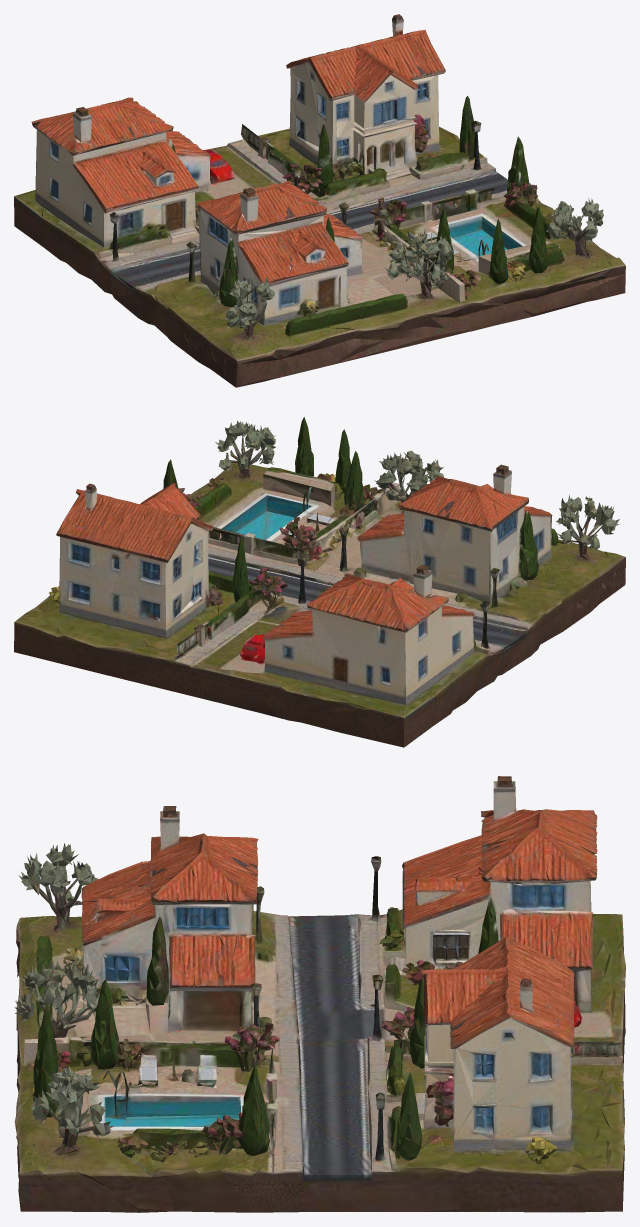
File: residenziali.glb
3 renders of one model, top to bottom at view 1: azimuth 30°, elevation 25°; view 2: azimuth 150°, elevation 25°; view 3: azimuth 270°, elevation 25°, orthographic. The views are drawn at different scales.
Parts seen in each view (by area): view 1: output_unwrapped; view 2: output_unwrapped; view 3: output_unwrapped.
Part boxes in pixels (left/top/right/bottom): output_unwrapped: left=14, top=14, right=625, bottom=387; output_unwrapped: left=14, top=417, right=625, bottom=747; output_unwrapped: left=14, top=776, right=625, bottom=1212.
Size of the model in its own units: 1.9 by 0.7075 by 1.88.
1 material, 1 textured.
